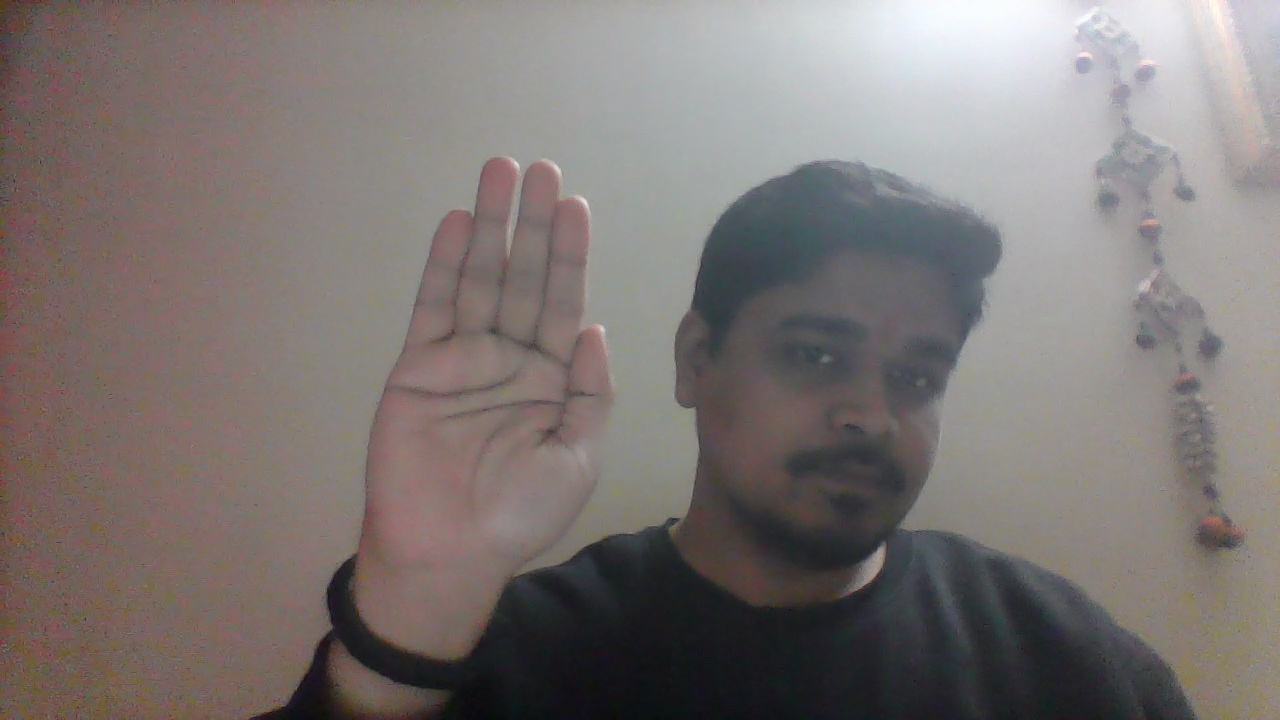Hello: (350, 149, 627, 582)
